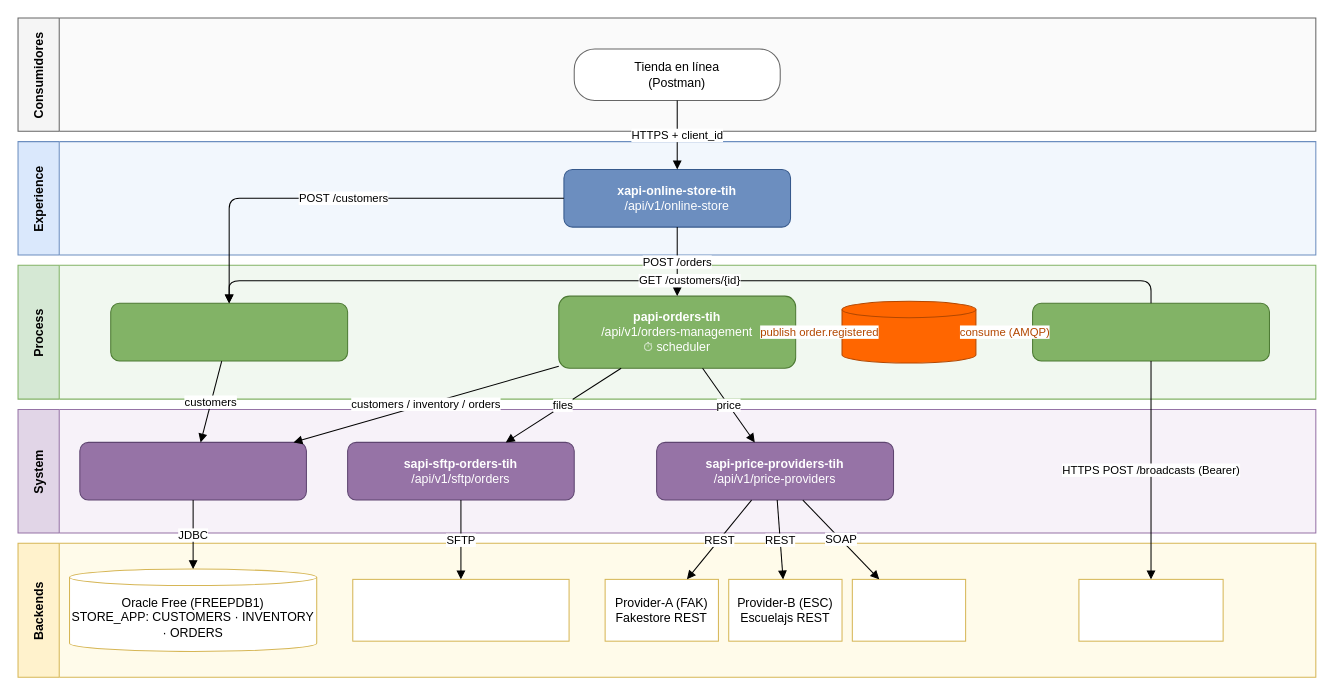
Image size: 1334x695. Some labels were removed from this diagram. Here are the shapes that lost their labels. From the top down, the centre of each, then its label:
[229,331]: papi-customers-tih /api/v1/customers-management
[908,331]: RabbitMQ
[1150,331]: papi-notifications-tih /api/v1/notifications
[192,470]: sapi-oracle-core-tih /api/v1/core/store
[460,609]: SFTP (Rebex) /orders/pending|processed|error
[908,609]: Provider-C (BOR) Borland SOAP mock SoapUI
[1150,609]: MagicBell api.magicbell.com canal email (SMTP)
